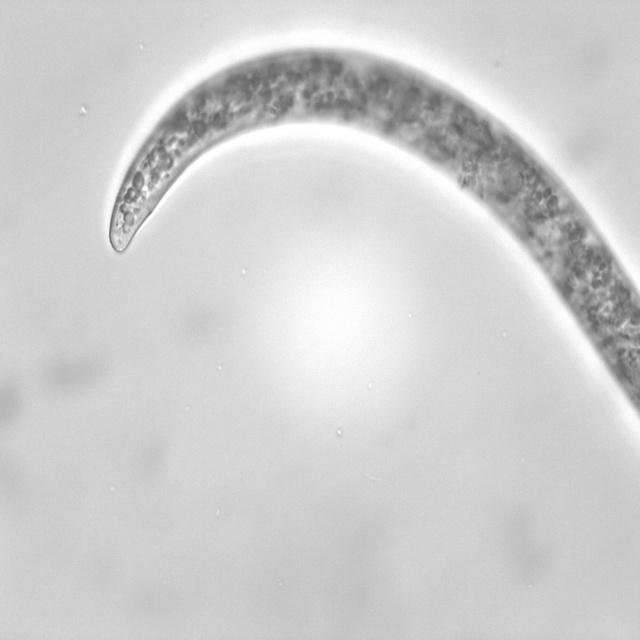Helicotylenchus: (82, 82, 241, 274)
